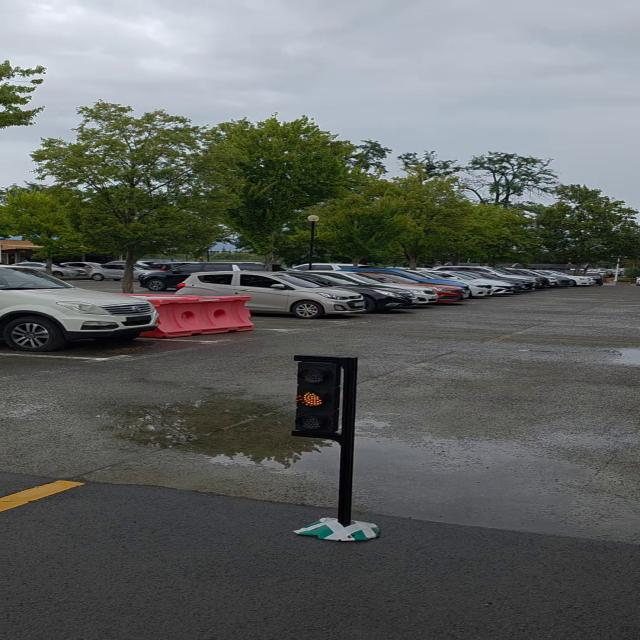yellow: (294, 356, 350, 436)
